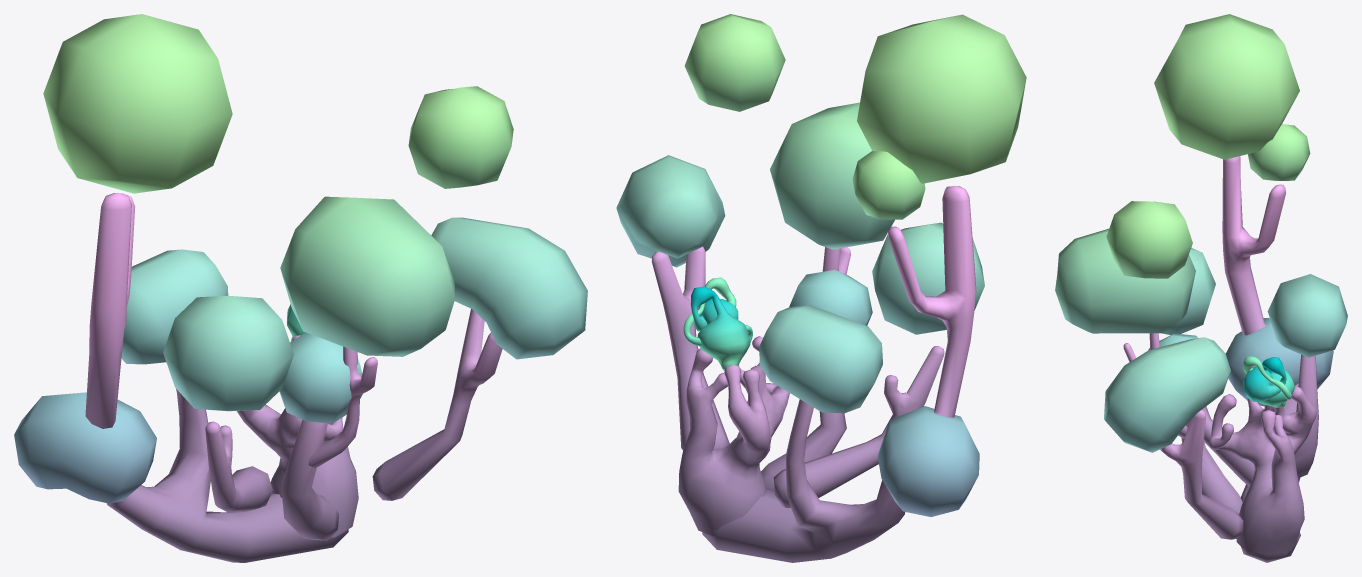
File: Tree_Top.fbx
3 views of the same model, side by side, from view 1: azimuth 30°, elevation 25°; view 2: azimuth 150°, elevation 25°; view 3: azimuth 270°, elevation 25° (orthographic). The views are drawn at different scales.
Visible parts, largest first — view 1: Tree_Top_2, Tree_Top_4, Tree_Top_1, Tree_Top_3, Tree_Top_Leaf, Tree_Top_Main; view 2: Tree_Top_2, Tree_Top_4, Tree_Top_1, Tree_Top_Main, Tree_Top_3, Tree_Top_Leaf, Tree_Fruit; view 3: Tree_Top_2, Tree_Top_1, Tree_Top_4, Tree_Top_Main, Tree_Top_Leaf, Tree_Top_3, Tree_Fruit.
Boxes of the visible parts, x1=… form: Tree_Top_2: x1=14, y1=14, x2=348, y2=562; Tree_Top_4: x1=279, y1=196, x2=454, y2=540; Tree_Top_1: x1=372, y1=217, x2=587, y2=500; Tree_Top_3: x1=163, y1=295, x2=293, y2=512; Tree_Top_Leaf: x1=408, y1=86, x2=513, y2=188; Tree_Top_Main: x1=237, y1=335, x2=358, y2=537; Tree_Top_2: x1=702, y1=14, x2=1026, y2=562; Tree_Top_4: x1=761, y1=102, x2=894, y2=491; Tree_Top_1: x1=616, y1=155, x2=729, y2=450; Tree_Top_Main: x1=678, y1=336, x2=789, y2=536; Tree_Top_3: x1=773, y1=222, x2=984, y2=507; Tree_Top_Leaf: x1=684, y1=14, x2=785, y2=111; Tree_Fruit: x1=683, y1=277, x2=752, y2=370; Tree_Top_2: x1=1154, y1=14, x2=1347, y2=562; Tree_Top_1: x1=1104, y1=337, x2=1243, y2=539; Tree_Top_4: x1=1055, y1=228, x2=1242, y2=513; Tree_Top_Main: x1=1208, y1=386, x2=1316, y2=555; Tree_Top_Leaf: x1=1106, y1=201, x2=1192, y2=278; Tree_Top_3: x1=1162, y1=248, x2=1254, y2=486; Tree_Fruit: x1=1243, y1=356, x2=1294, y2=407.
Size of the model in its own units: 457 by 552 by 316.
